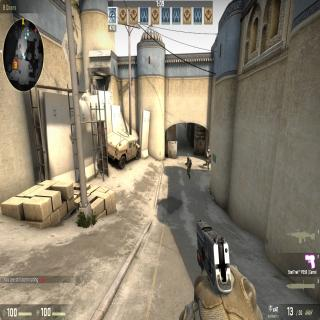CT-Body: (185, 156, 192, 178), (204, 148, 210, 170)
CT-Head: (187, 156, 190, 161), (207, 149, 210, 153)
